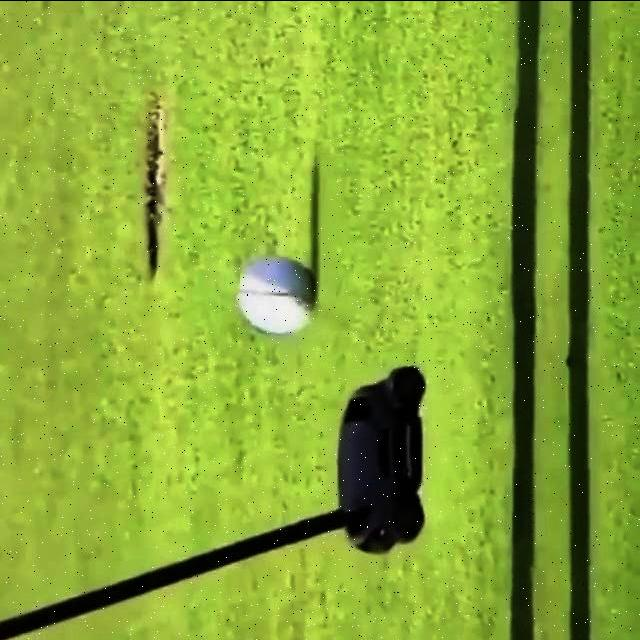golf ball: (233, 251, 316, 330)
golf club-handle: (0, 352, 438, 639)
golf club-head: (335, 361, 428, 553)
